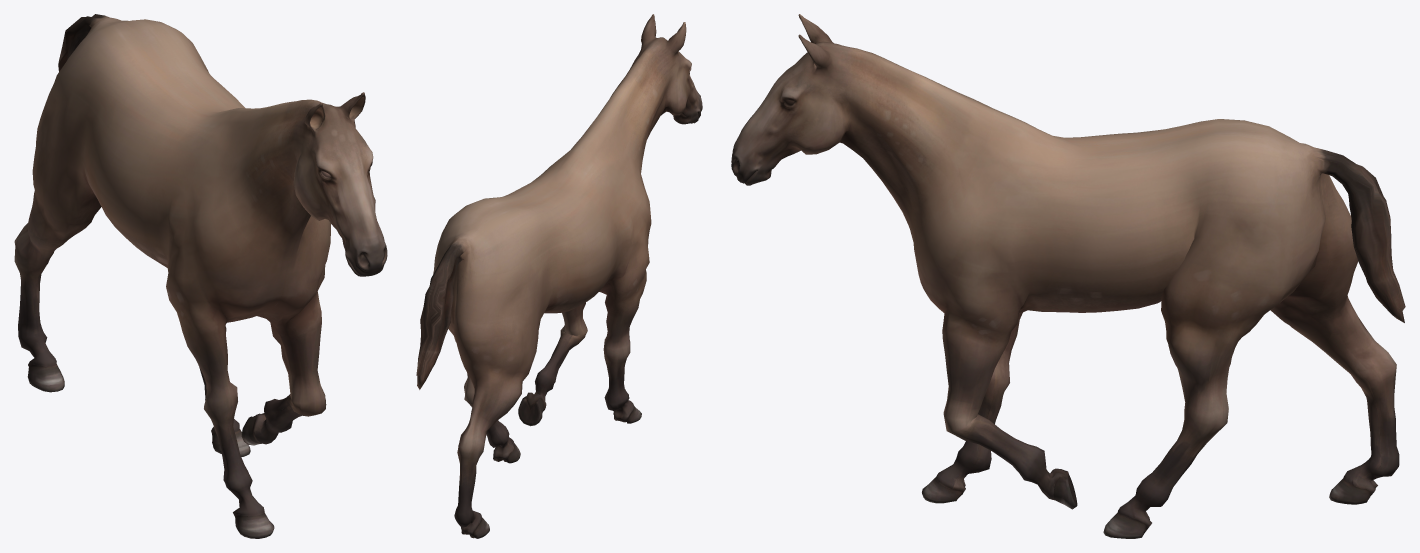
3 renders of one model, left to right at view 1: azimuth 30°, elevation 25°; view 2: azimuth 150°, elevation 25°; view 3: azimuth 270°, elevation 25°, orthographic. The views are drawn at different scales.
Parts seen in each view (by area): view 1: HorseShape; view 2: HorseShape; view 3: HorseShape.
Boxes of the visible parts, box(x1,y1,x2,y2) form: HorseShape: box(14, 14, 387, 538); HorseShape: box(416, 14, 702, 538); HorseShape: box(731, 14, 1405, 538).
Size of what is drawn, in the model's own units: 6.6 by 19.41 by 24.59.
1 material, 1 textured.
